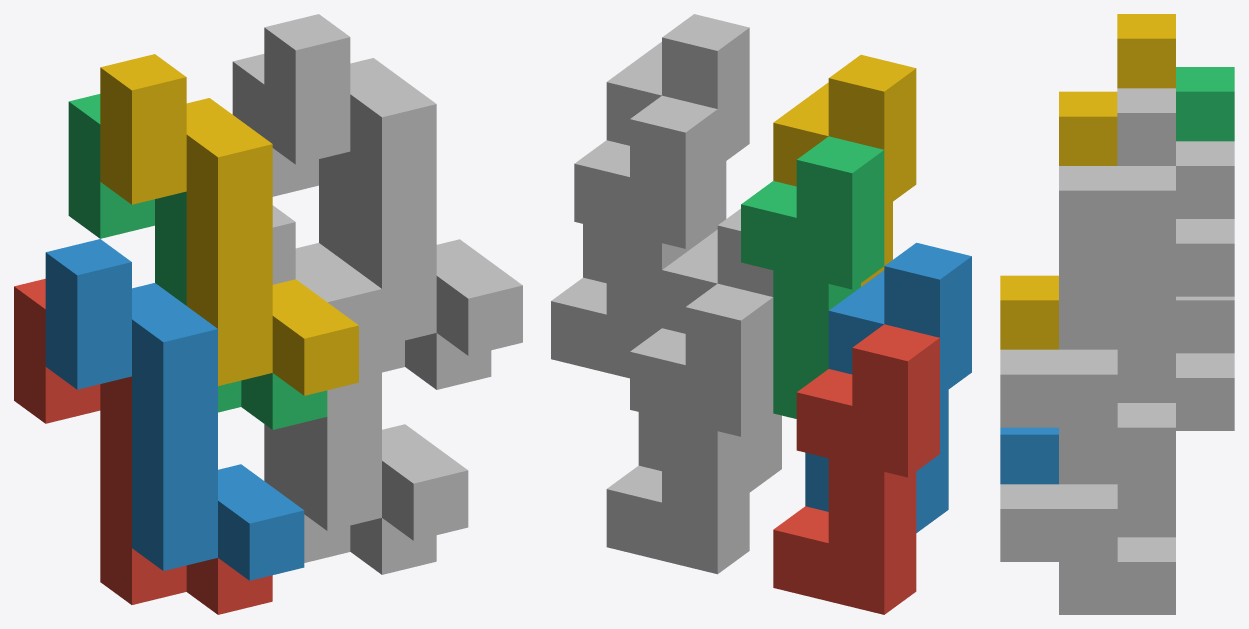
File: tiling.obj
3 views of the same model, side by side, from view 1: azimuth 30°, elevation 25°; view 2: azimuth 150°, elevation 25°; view 3: azimuth 270°, elevation 25° (orthographic). The views are drawn at different scales.
Parts seen in each view (by area): view 1: copy_1_domain_2, copy_1_domain_4, copy_1_domain_8, copy_1_domain_6, copy_1_domain_1, copy_1_domain_3, copy_1_domain_7, copy_1_domain_5; view 2: copy_1_domain_1, copy_1_domain_5, copy_1_domain_7, copy_1_domain_3, copy_1_domain_2, copy_1_domain_8, copy_1_domain_4, copy_1_domain_6; view 3: copy_1_domain_8, copy_1_domain_7, copy_1_domain_5, copy_1_domain_4, copy_1_domain_6, copy_1_domain_3, copy_1_domain_2.
Boxes of the visible parts, bbox=[...] form: copy_1_domain_2: bbox=[45, 239, 304, 580]; copy_1_domain_4: bbox=[100, 54, 358, 395]; copy_1_domain_8: bbox=[264, 14, 522, 355]; copy_1_domain_6: bbox=[272, 205, 468, 540]; copy_1_domain_1: bbox=[14, 278, 272, 614]; copy_1_domain_3: bbox=[68, 94, 327, 429]; copy_1_domain_7: bbox=[232, 54, 491, 389]; copy_1_domain_5: bbox=[264, 424, 436, 574]; copy_1_domain_1: bbox=[773, 324, 939, 614]; copy_1_domain_5: bbox=[606, 283, 773, 574]; copy_1_domain_7: bbox=[551, 95, 717, 378]; copy_1_domain_3: bbox=[741, 136, 884, 418]; copy_1_domain_2: bbox=[805, 242, 971, 532]; copy_1_domain_8: bbox=[583, 14, 749, 283]; copy_1_domain_4: bbox=[773, 54, 916, 286]; copy_1_domain_6: bbox=[638, 208, 781, 492]; copy_1_domain_8: bbox=[1000, 88, 1175, 427]; copy_1_domain_7: bbox=[1059, 141, 1234, 480]; copy_1_domain_5: bbox=[1059, 296, 1234, 614]; copy_1_domain_4: bbox=[1000, 14, 1175, 349]; copy_1_domain_6: bbox=[1000, 480, 1117, 561]; copy_1_domain_3: bbox=[1176, 67, 1234, 141]; copy_1_domain_2: bbox=[1000, 427, 1058, 484].
Size of the model in its own units: 7 by 9 by 4.
